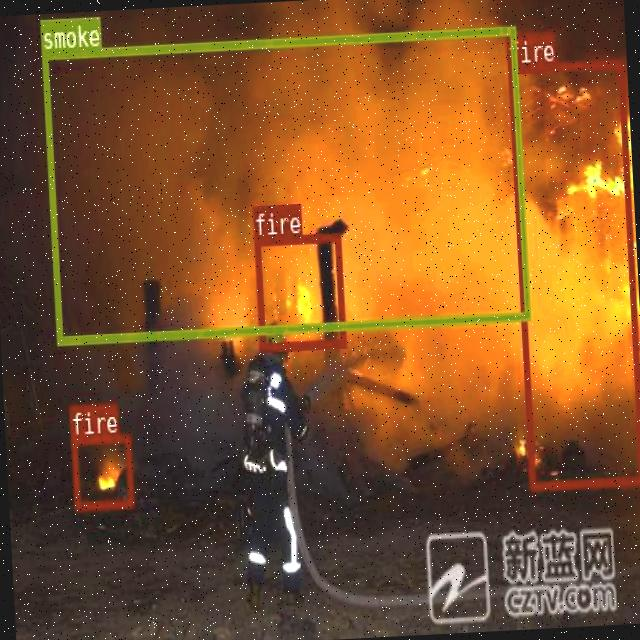fire: (508, 59, 640, 488), (254, 232, 345, 350), (70, 432, 132, 510)
smoke: (42, 24, 530, 344)
